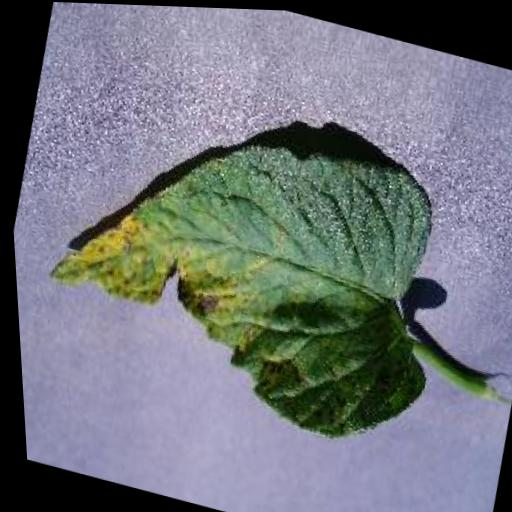Septoria: (15, 80, 473, 460)
